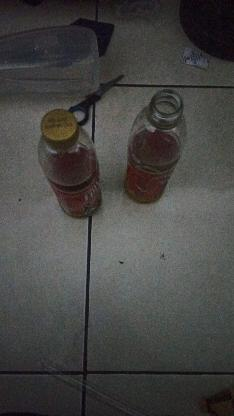Plastic Bottle: (38, 107, 102, 219), (124, 88, 186, 202)
